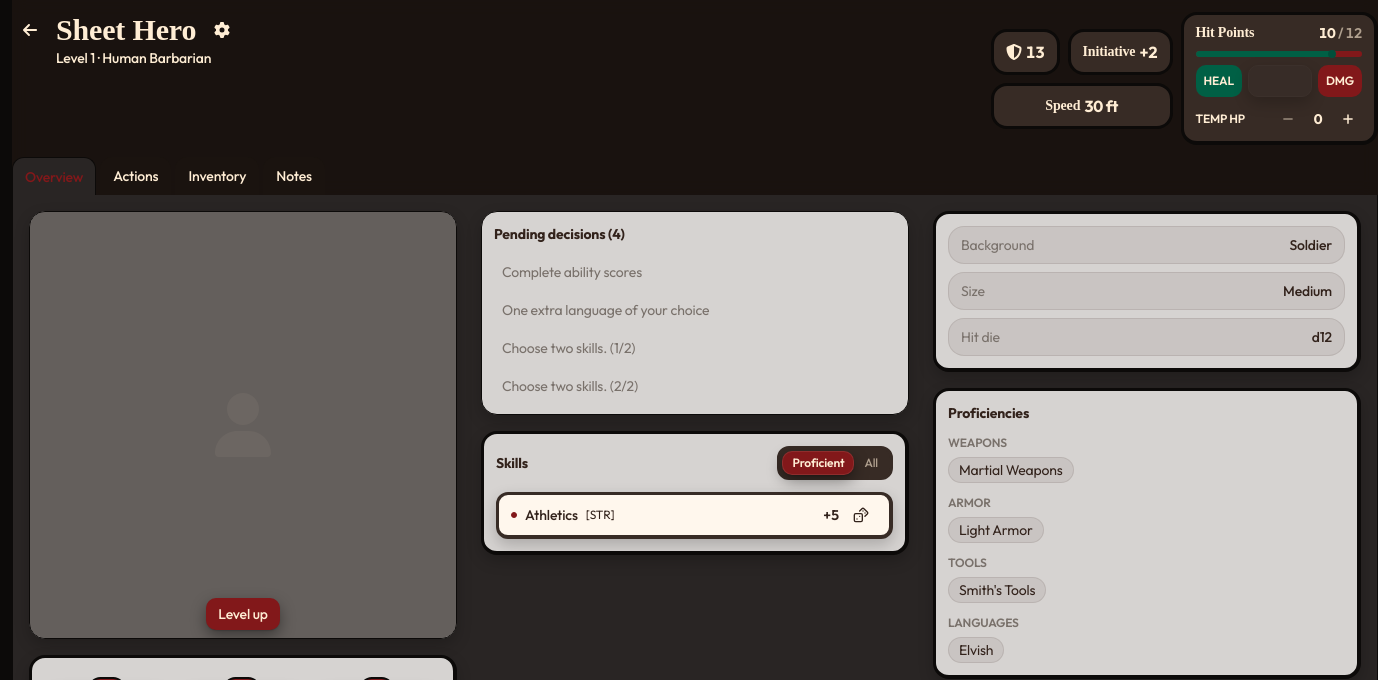
Test case: PlayerSheet › shows class resources on combat when the character has uses
Expected: the text "Class Resources" is not shown
Expected: the text "Rage Uses" is not shown
Step 1. Click the tab "Actions" → {"x": 136, "y": 176}, box [100,157,171,195]
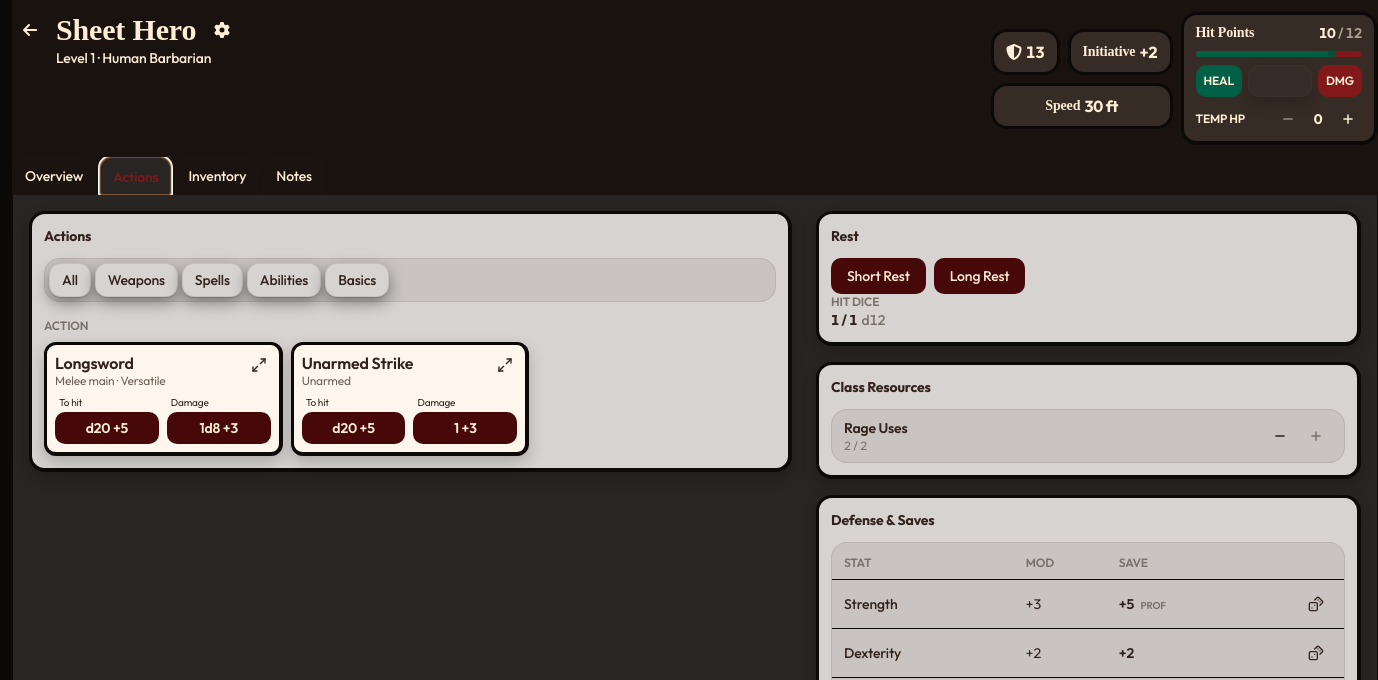
Result: the text "Class Resources" is shown at [831,377,931,397]
Result: the text "Rage Uses" is shown at [844,418,908,438]
Result: the text "2 / 2" is shown at [844,438,867,453]
